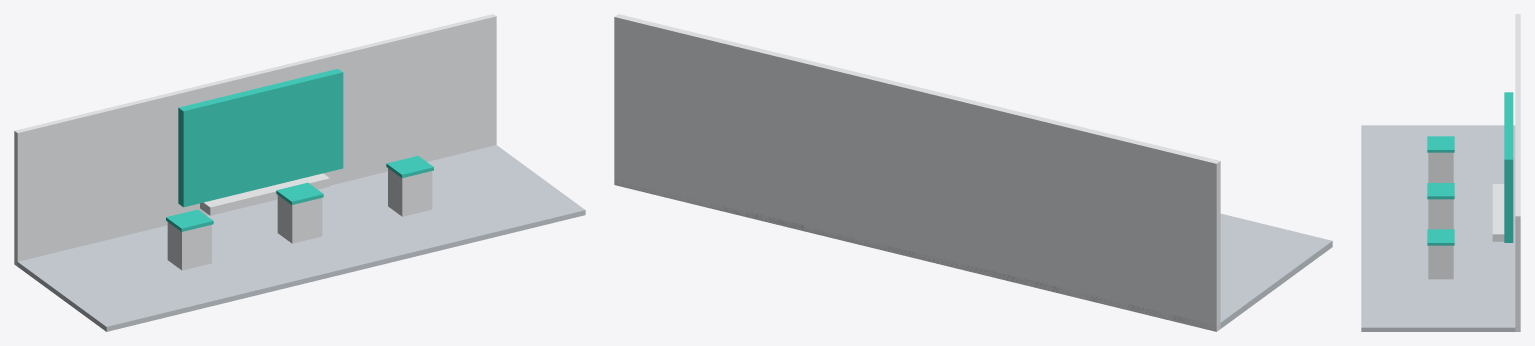
The picture shows the model from 3 angles, left to right: view 1: azimuth 30°, elevation 25°; view 2: azimuth 150°, elevation 25°; view 3: azimuth 270°, elevation 25°; orthographic projection. The views are drawn at different scales.
Parts seen in each view (by area): view 1: Exhibition Booth Concept; view 2: Exhibition Booth Concept; view 3: Exhibition Booth Concept.
Part boxes in pixels (x1,y1,x2,y2): Exhibition Booth Concept: (14,14,585,331); Exhibition Booth Concept: (614,14,1332,331); Exhibition Booth Concept: (1361,14,1520,331).
Size of the model in its own units: 12 by 3.2 by 4.
